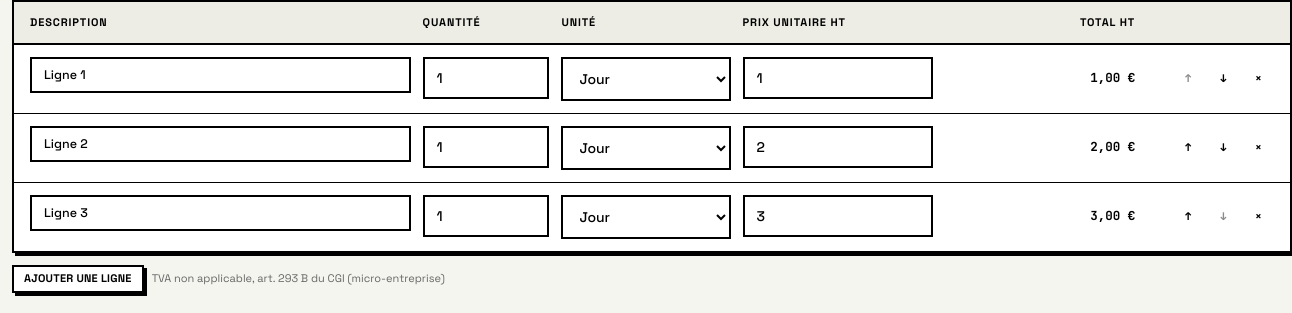
Test: ItemsEditor › conserve les positions séquentielles après suppression
The width and height of the screenshot is (1292, 313).
Step 1. Click the button with test id "item-remove-1" → {"x": 1258, "y": 148}, box top-left (1243, 134), bottom-right (1274, 162)
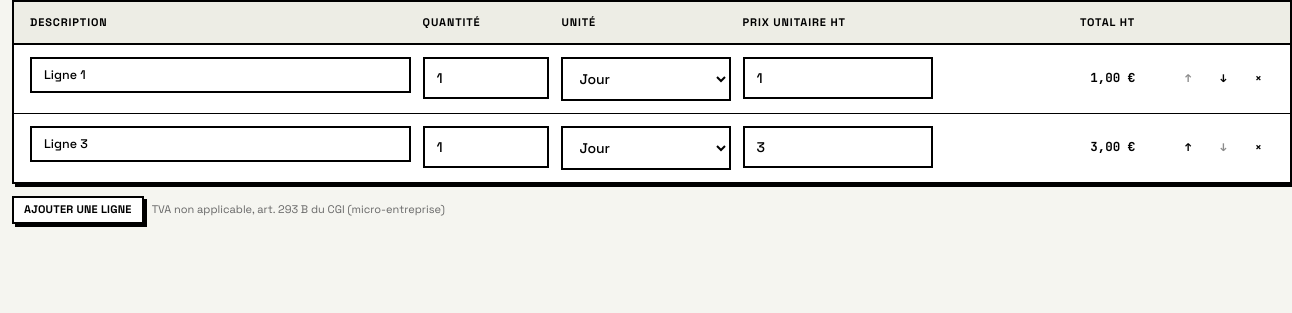
Expected: the element with test id "item-row-0" is shown, top-left (14, 44), bottom-right (1290, 114)
Expected: the element with test id "item-row-1" is shown, top-left (14, 114), bottom-right (1290, 182)
